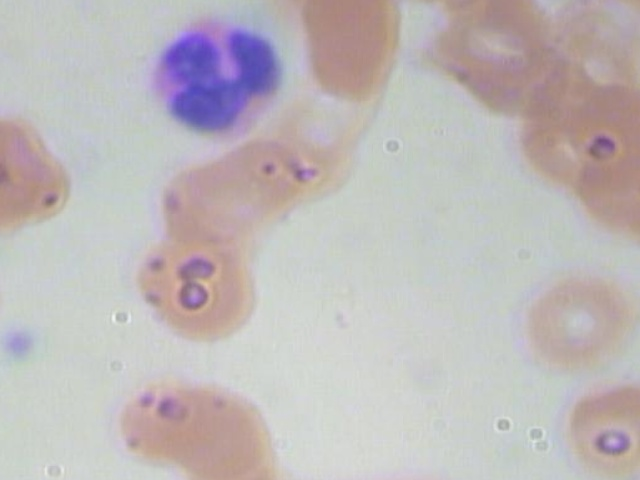Platelets: (0, 325, 48, 362)
RBC: (508, 259, 636, 376), (97, 358, 225, 475), (525, 367, 640, 480), (123, 230, 238, 334), (299, 0, 406, 107), (172, 380, 286, 480), (153, 159, 266, 251), (0, 119, 79, 237), (0, 118, 35, 236), (0, 250, 4, 365)
WBC: (136, 6, 301, 146)
